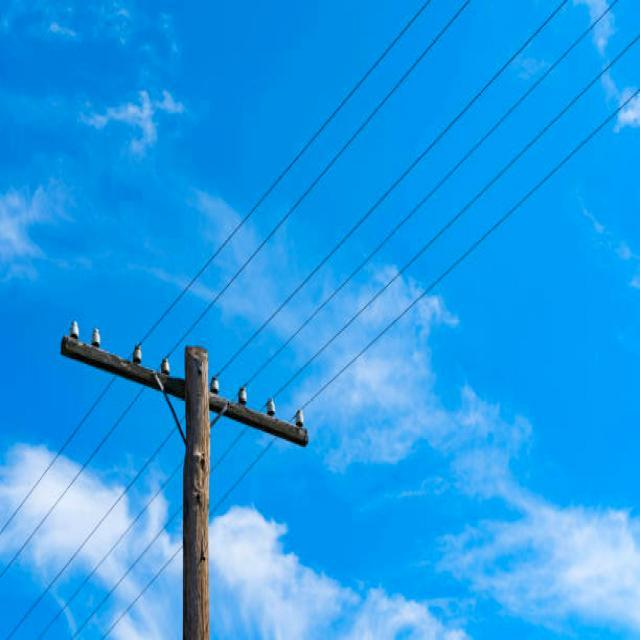crossarm: (62, 322, 308, 447)
pole: (182, 347, 209, 640)
wire: (32, 1, 621, 640), (90, 80, 639, 640), (0, 2, 477, 586), (1, 0, 436, 539)
